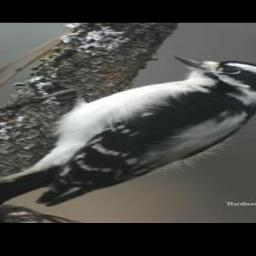Woodpecker: (0, 56, 256, 215)
